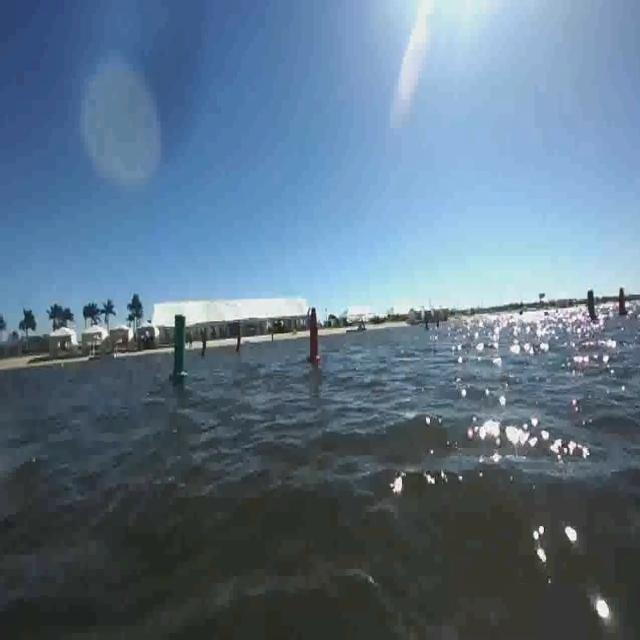green-column-buoy: (170, 313, 190, 381), (585, 288, 600, 322)
red-column-buoy: (306, 307, 322, 365), (617, 286, 629, 316)
